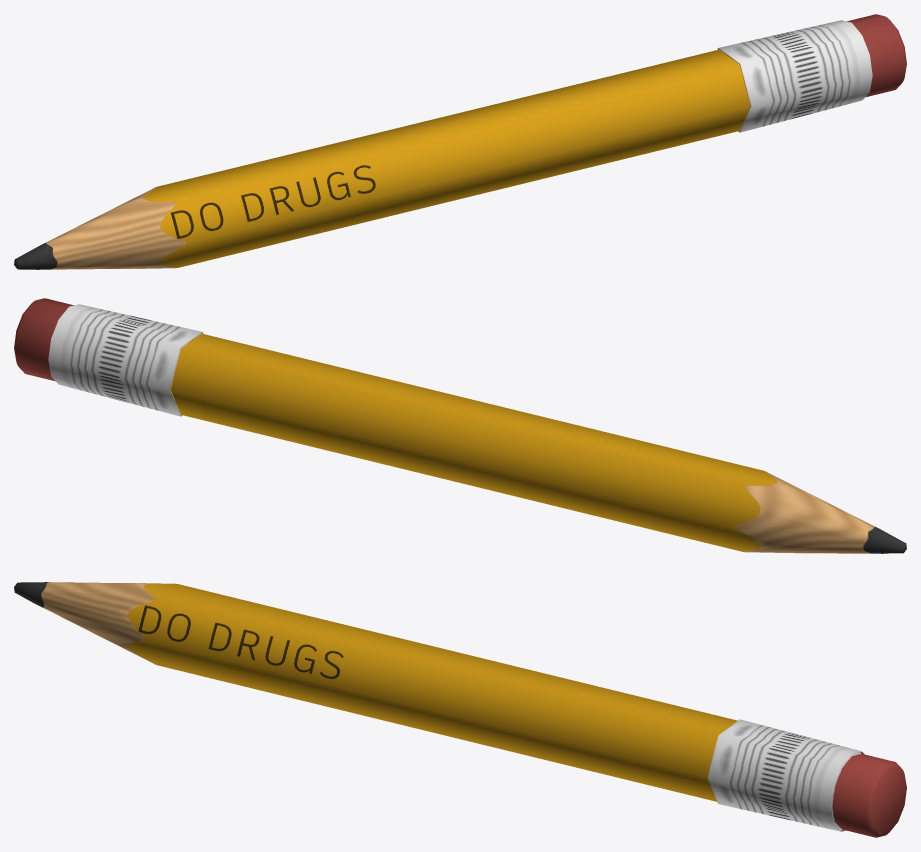
The model's file is Pencil.fbx.
The picture shows the model from 3 angles, top to bottom: view 1: azimuth 30°, elevation 25°; view 2: azimuth 150°, elevation 25°; view 3: azimuth 330°, elevation 25°; orthographic projection.
Visible parts, largest first — view 1: Pencil; view 2: Pencil; view 3: Pencil.
Boxes of the visible parts, left/top/right/bottom form: Pencil: left=14, top=14, right=906, bottom=269; Pencil: left=14, top=298, right=906, bottom=553; Pencil: left=14, top=582, right=906, bottom=837.
Bounding box in the file's own units: 10.34 × 0.8497 × 0.8949.
1 material, 1 textured.
